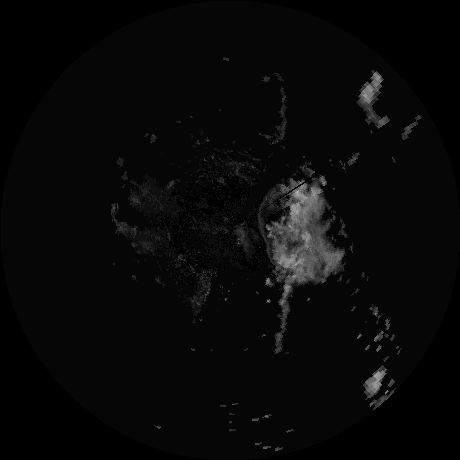frontgust: (255, 200, 272, 261)
